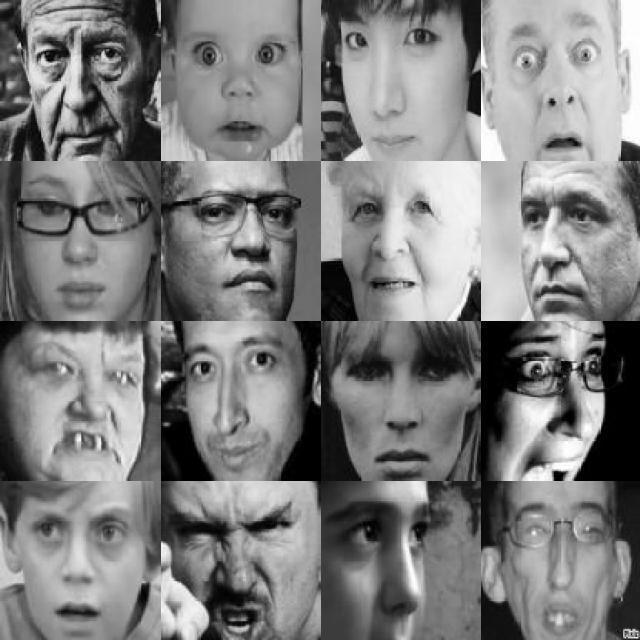angry: (11, 329, 159, 474), (170, 165, 307, 321), (169, 500, 309, 640)
fear: (494, 328, 639, 479), (485, 5, 630, 151), (12, 489, 143, 640), (173, 11, 304, 160)
happy: (328, 2, 470, 155), (172, 328, 303, 479), (336, 170, 461, 310), (335, 494, 437, 640)
neutral: (500, 491, 637, 640), (502, 170, 635, 313), (17, 10, 148, 152)
sad: (321, 338, 477, 473), (16, 166, 142, 323)
